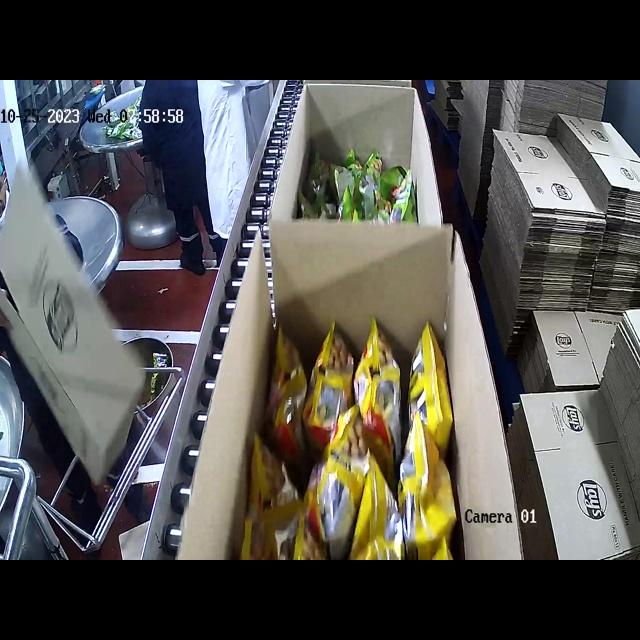salted: (272, 291, 438, 560)
yogurt: (321, 154, 409, 222)
